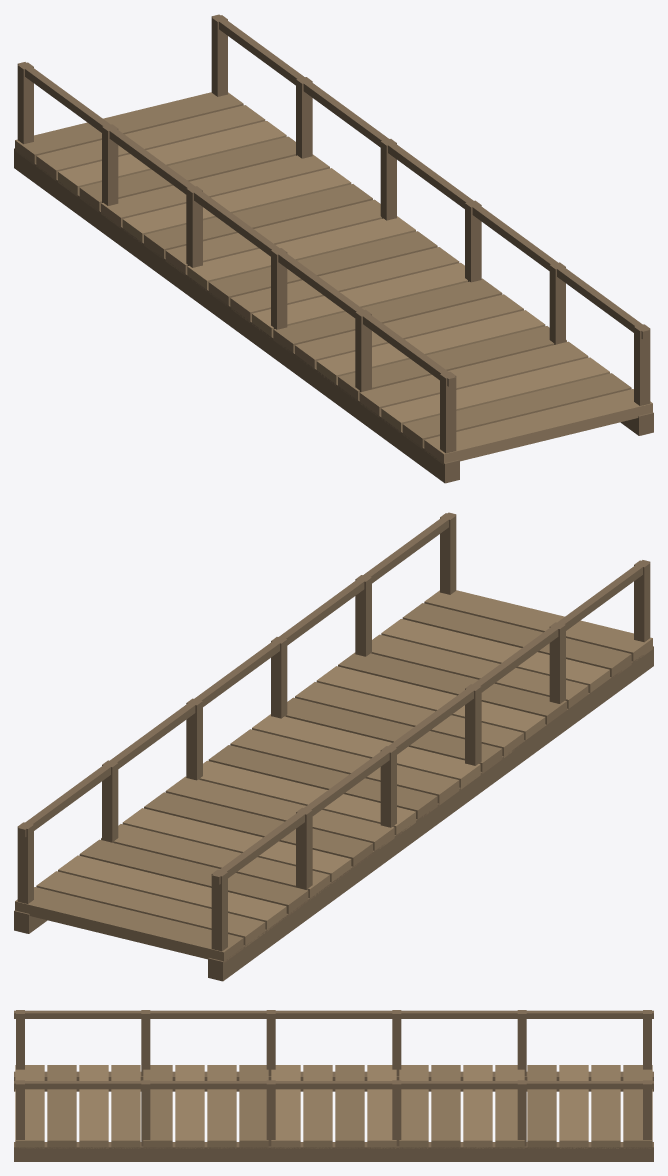
Rendered from bridge.glb.
The picture shows the model from 3 angles, top to bottom: view 1: azimuth 30°, elevation 25°; view 2: azimuth 150°, elevation 25°; view 3: azimuth 270°, elevation 25°; orthographic projection. The views are drawn at different scales.
Parts seen in each view (by area): view 1: bridge; view 2: bridge; view 3: bridge.
Boxes of the visible parts, x1,y1,x2,y2 form: bridge: (14,14,653,483); bridge: (14,512,653,981); bridge: (14,1010,653,1161).
Bounding box in the file's own units: 2.8 × 1.33 × 10.
